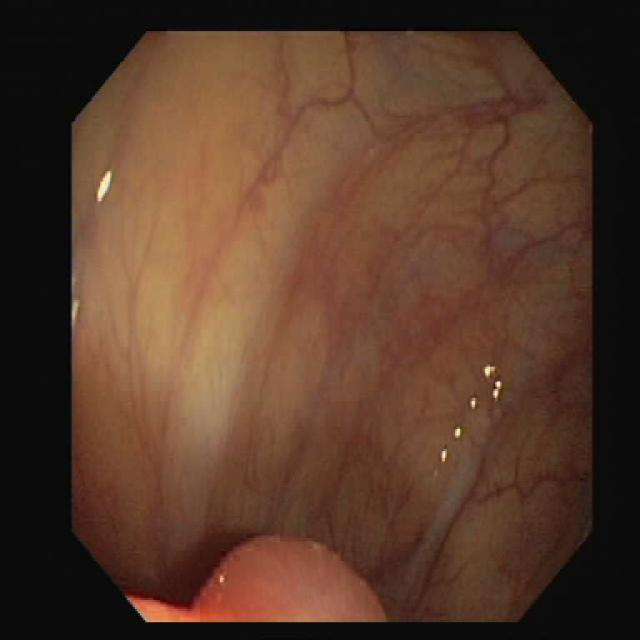tumor: (128, 536, 388, 620)
